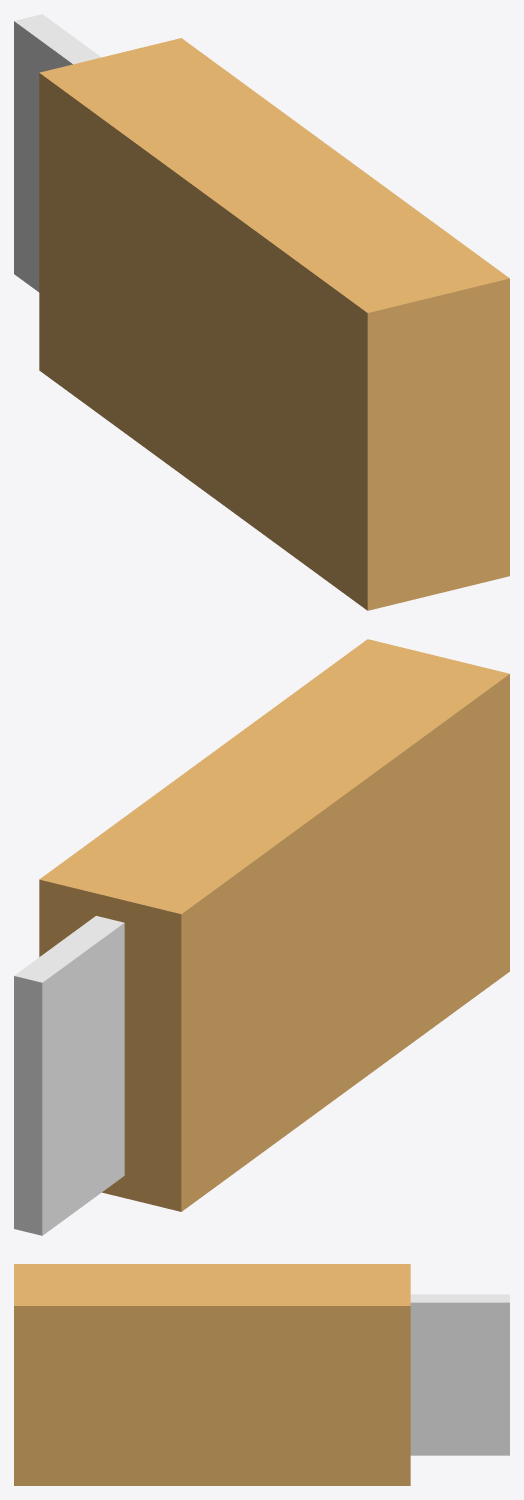
Rendered from standin-swimmer.glb.
3 renders of one model, top to bottom at view 1: azimuth 30°, elevation 25°; view 2: azimuth 150°, elevation 25°; view 3: azimuth 270°, elevation 25°, orthographic. The views are drawn at different scales.
Parts seen in each view (by area): view 1: Fish, TailFin; view 2: Fish, TailFin; view 3: Fish, TailFin.
Part boxes in pixels (box(x1,y1,x2,y2)): Fish: box(39, 38, 509, 610); TailFin: box(14, 14, 101, 292); Fish: box(39, 639, 509, 1211); TailFin: box(14, 916, 124, 1235); Fish: box(14, 1264, 410, 1485); TailFin: box(410, 1294, 509, 1455).
Bounding box in the file's own units: 0.2 × 0.4 × 1.
